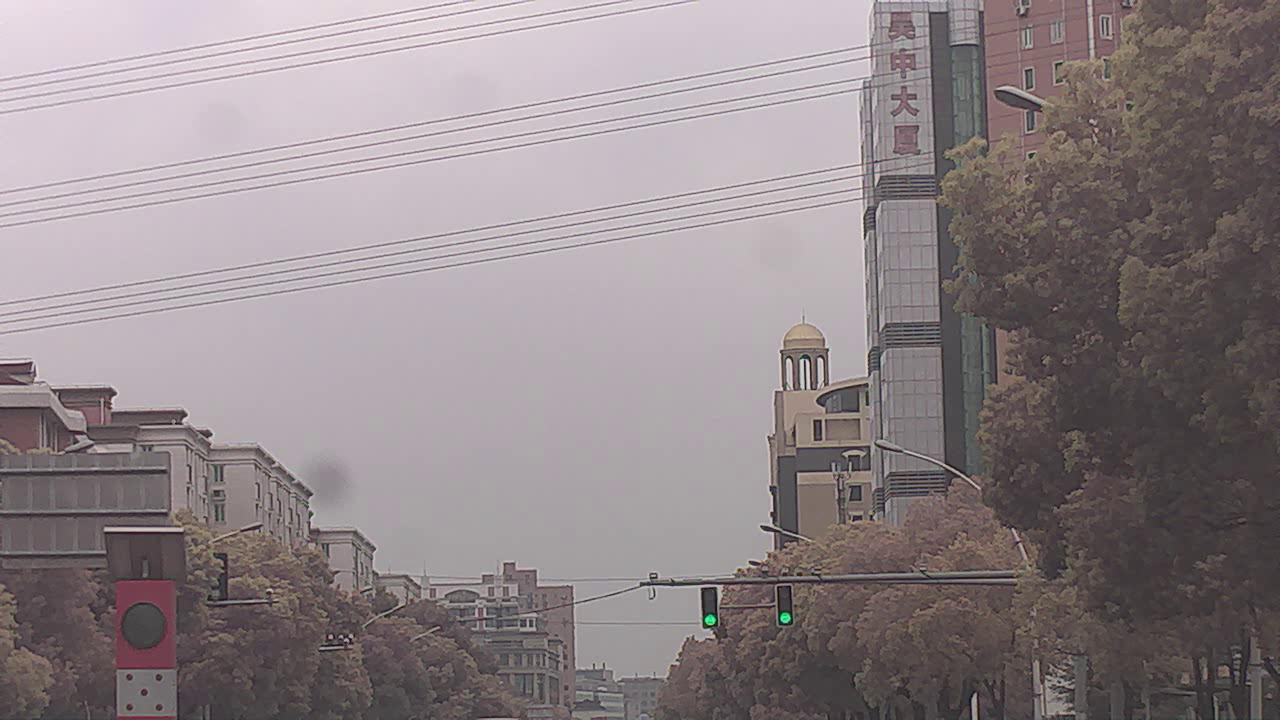traffic_light: (775, 585, 797, 628), (702, 587, 719, 631)
